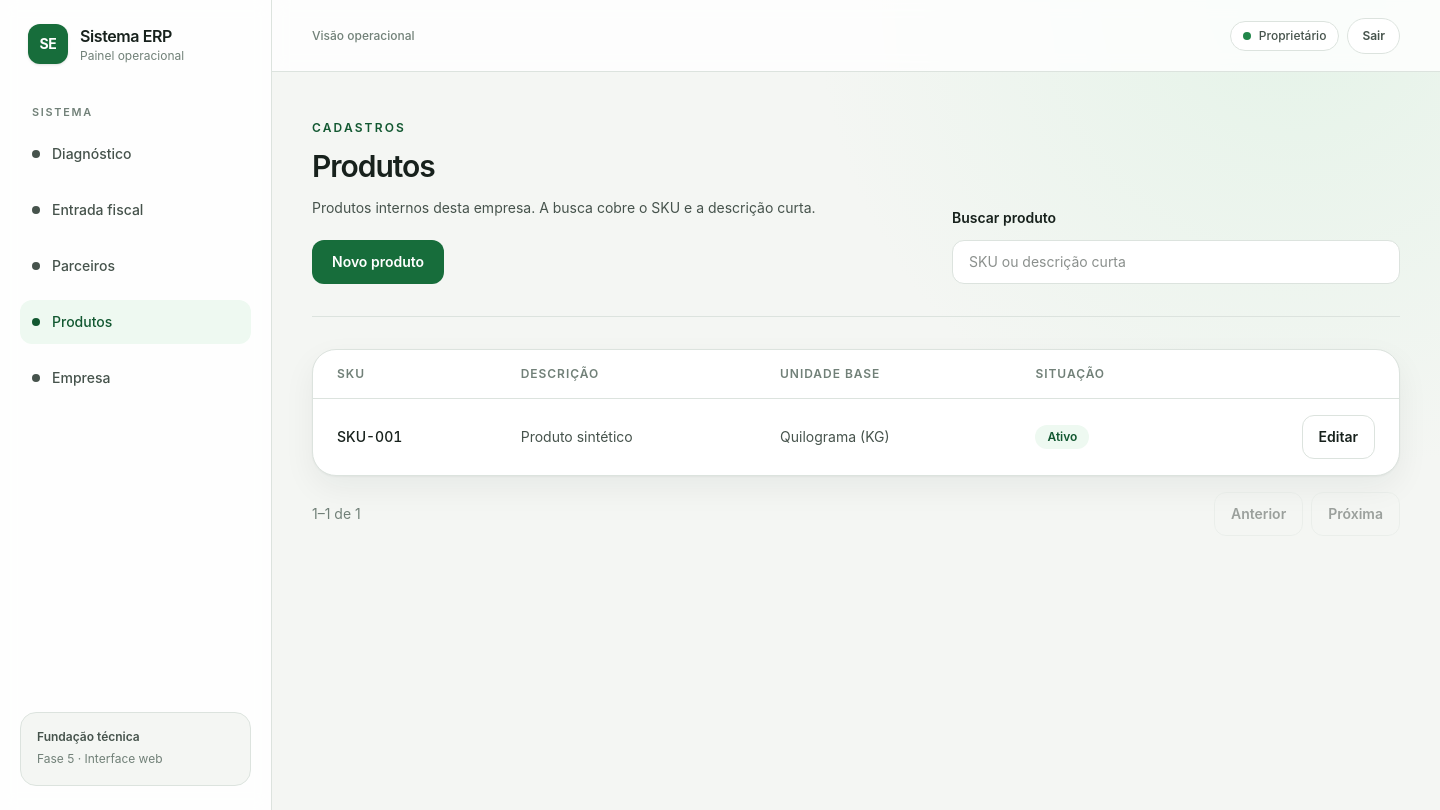
Scenario: edição de cadastros › grava medidas digitadas com vírgula e mostra a polegada equivalente
This screenshot has width=1440, height=810.
Click the button with aria-label "Editar SKU-001" at (1338, 437), box [1302,415,1375,459]
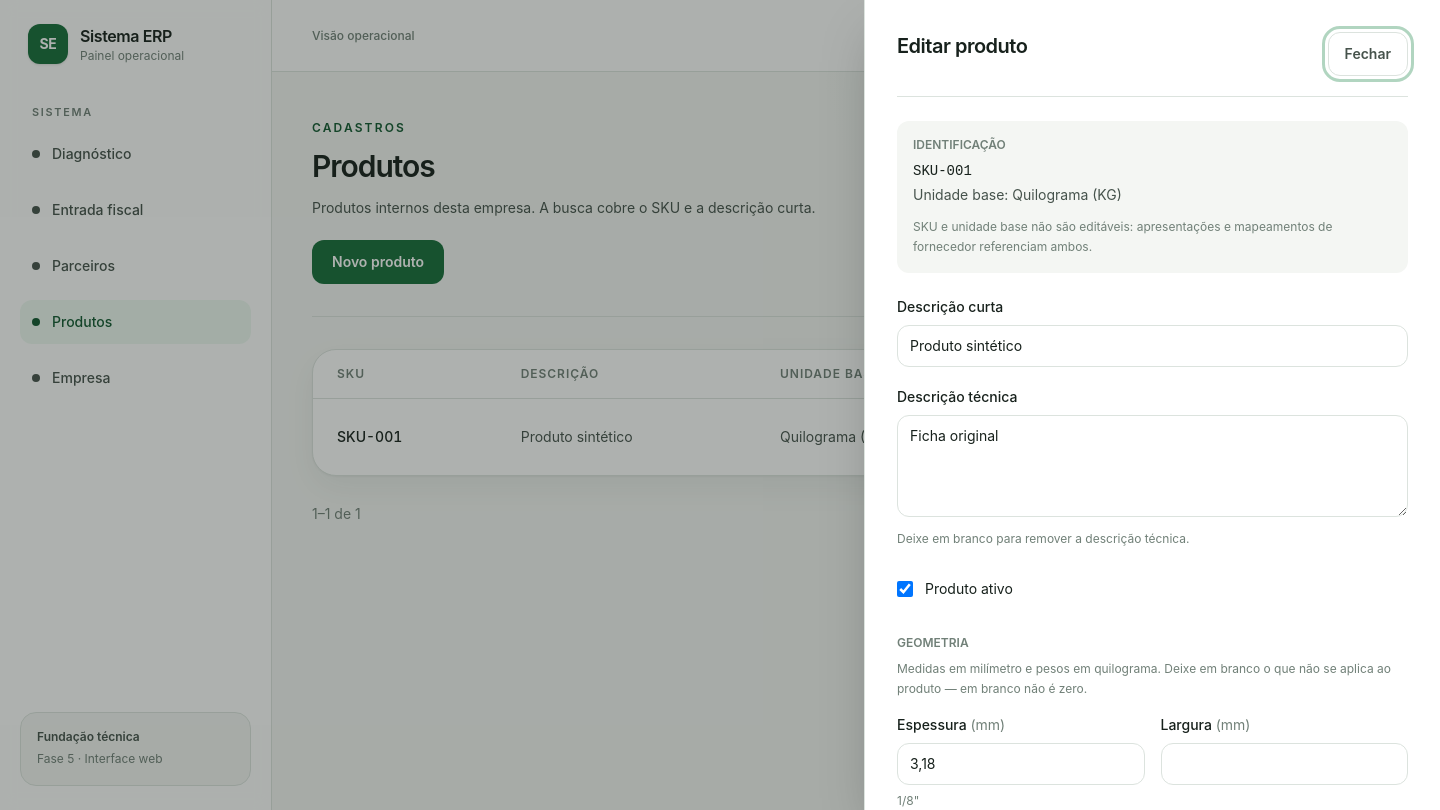
Now the field labelled "Espessura (mm)" holds "3,18", box [897,743,1144,785]
Now the text "1/8\"" is shown, box [897,793,919,808]
Type "1200" into the field labelled "Largura (mm)" at (1284, 764), box [1160,743,1408,785]
(page scrolled)
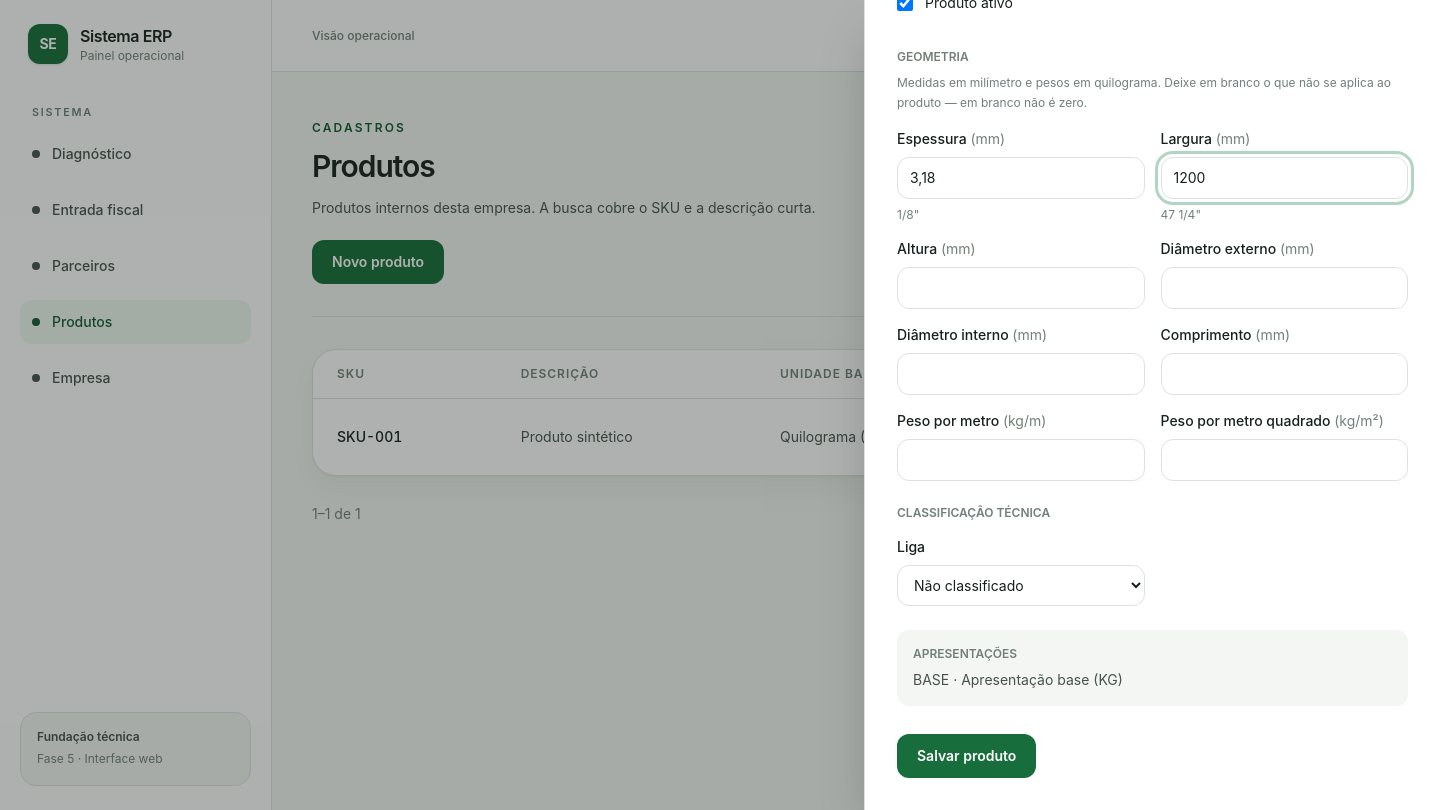
Type "24,964" into the field labelled "Peso por metro quadrado (kg/m²)" at (1284, 460), box [1160,439,1408,481]
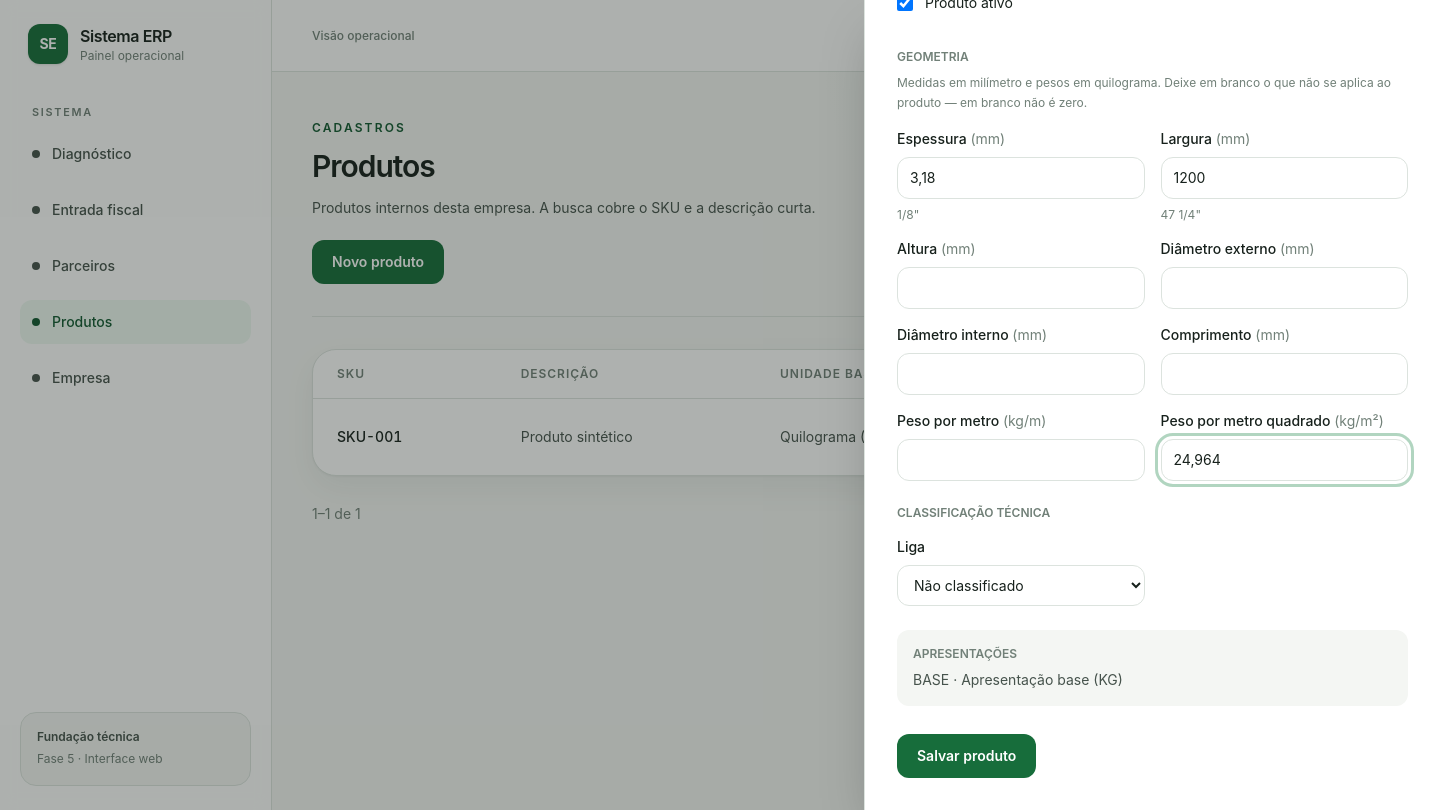
Click the button "Salvar produto" at (967, 756), box [897,734,1036,778]
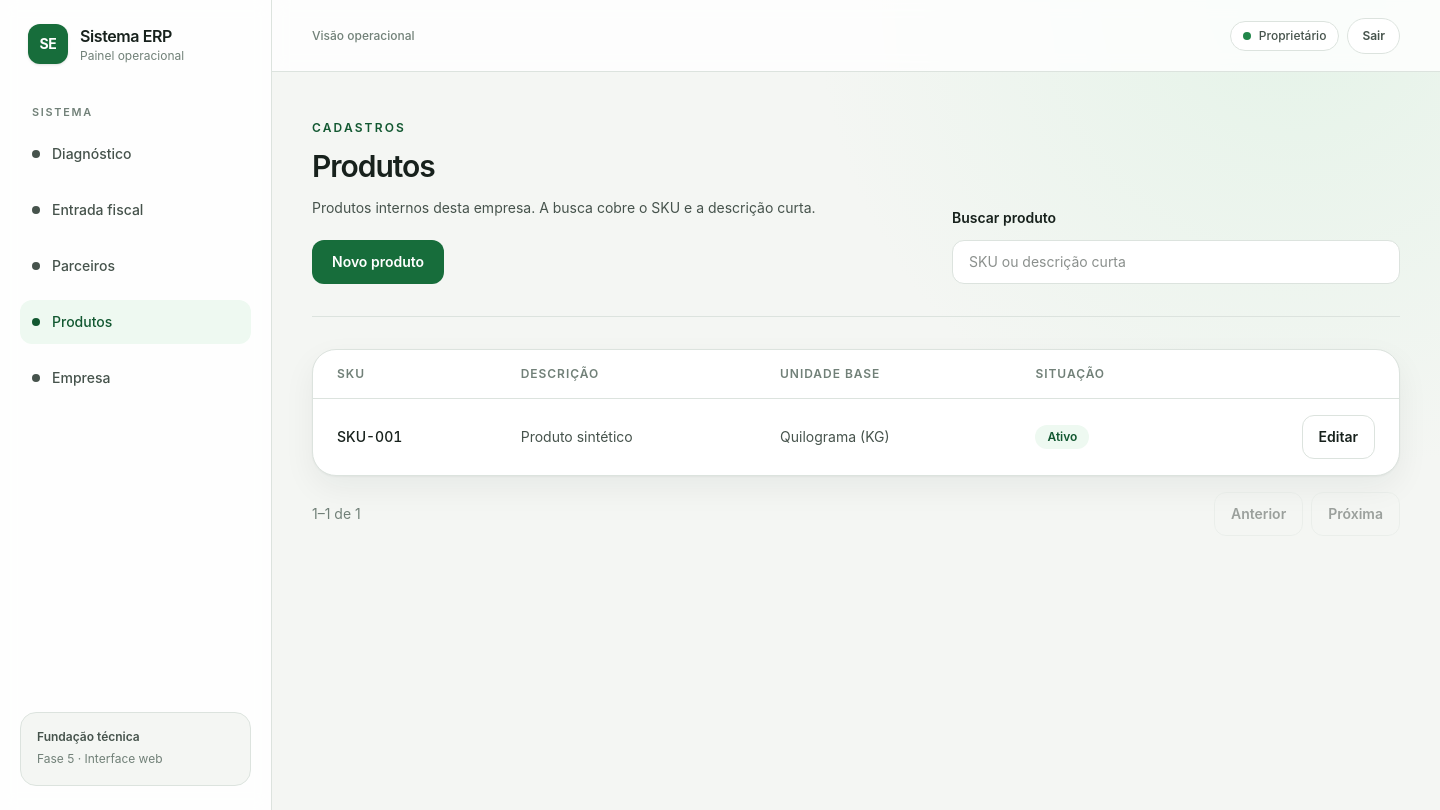
Now the dialog is gone
